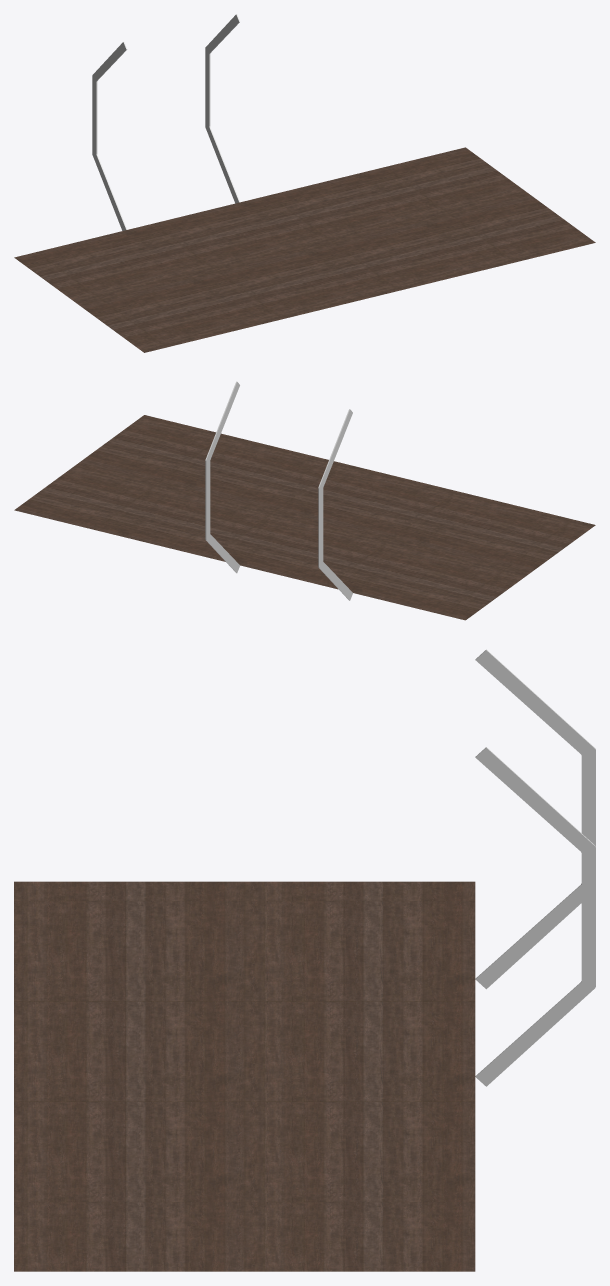
File: BionicCommando.fbx
The picture shows the model from 3 angles, top to bottom: view 1: azimuth 30°, elevation 25°; view 2: azimuth 150°, elevation 25°; view 3: azimuth 270°, elevation 25°; orthographic projection. The views are drawn at different scales.
Visible parts, largest first — view 1: Floor, Frame.001; view 2: Floor, Frame.001; view 3: Floor, Frame.001.
Boxes of the visible parts, x1,y1,x2,y2 form: Floor: (14, 147, 595, 352); Frame.001: (92, 14, 239, 230); Floor: (14, 415, 595, 620); Frame.001: (205, 381, 352, 600); Floor: (14, 881, 475, 1271); Frame.001: (475, 649, 595, 1086).
Size of the model in its own units: 800 by 324 by 505.
